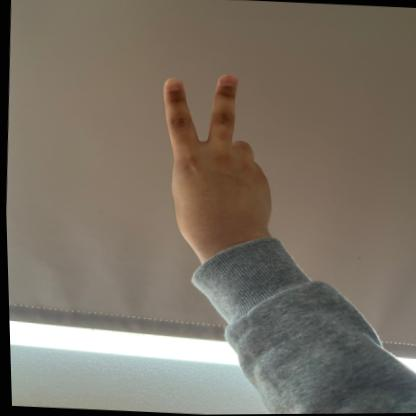V: (149, 66, 281, 258)
